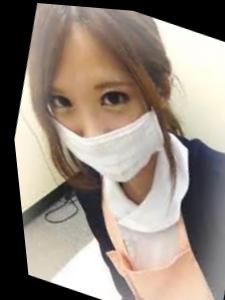WRONG: (20, 45, 173, 195)
